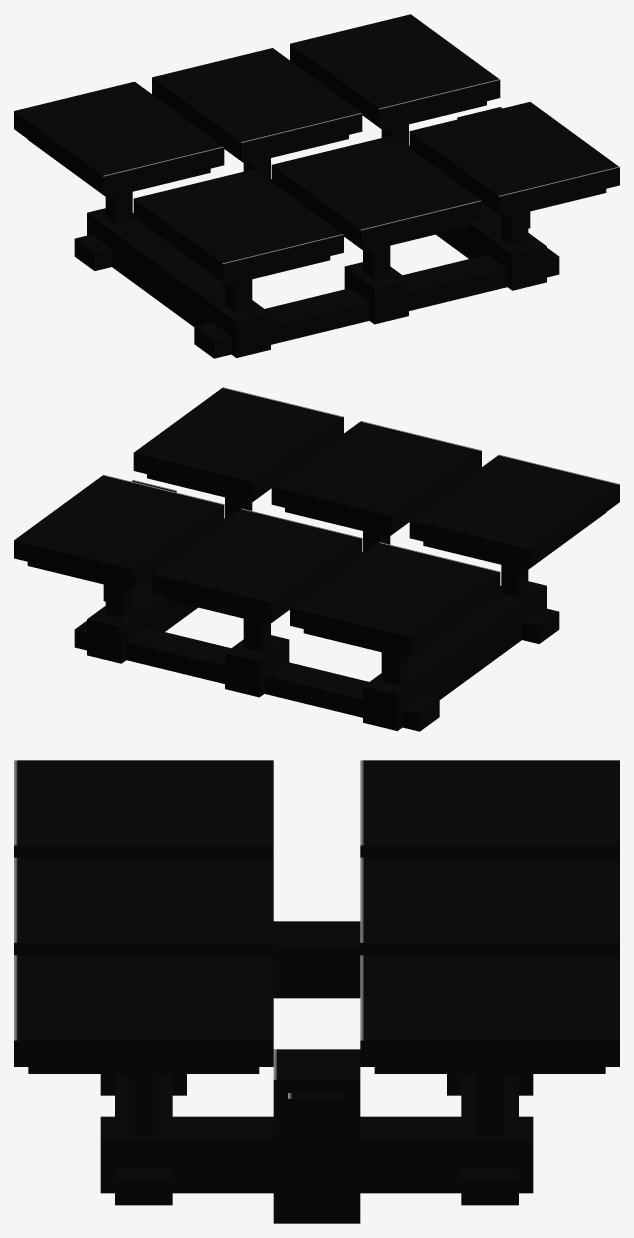
Rendered from solar_panel.obj.
The picture shows the model from 3 angles, top to bottom: view 1: azimuth 30°, elevation 25°; view 2: azimuth 150°, elevation 25°; view 3: azimuth 270°, elevation 25°; orthographic projection. The views are drawn at different scales.
Visible parts, largest first — view 1: panel3-1, panel6-1, panel5-1, panel1-1, panel2-1, panel4-1, shape4, shape12, shape7, shape11, shape1, shape9 (+9 smaller); view 2: panel6-1, panel3-1, panel2-1, panel4-1, panel5-1, panel1-1, shape4, shape1, shape7, shape5, shape12, shape3 (+9 smaller); view 3: panel4-1, panel1-1, panel5-1, panel2-1, panel6-1, panel3-1, shape7, energyinput_, shape4, shape12, shape1, energyinput (+6 smaller).
Part boxes in pixels (left/top/right/bottom): panel3-1: left=14, top=81, right=224, bottom=194; panel6-1: left=133, top=169, right=343, bottom=282; panel5-1: left=271, top=135, right=481, bottom=248; panel1-1: left=290, top=14, right=500, bottom=127; panel2-1: left=152, top=48, right=362, bottom=160; panel4-1: left=409, top=102, right=619, bottom=214; shape4: left=87, top=208, right=270, bottom=357; shape12: left=194, top=248, right=559, bottom=358; shape7: left=409, top=145, right=546, bottom=290; shape11: left=344, top=262, right=408, bottom=324; shape1: left=74, top=234, right=111, bottom=270; shape9: left=363, top=246, right=390, bottom=278; panel6-1: left=409, top=454, right=619, bottom=567; panel3-1: left=290, top=542, right=500, bottom=655; panel2-1: left=152, top=508, right=362, bottom=621; panel4-1: left=133, top=387, right=343, bottom=500; panel5-1: left=271, top=421, right=481, bottom=533; panel1-1: left=14, top=475, right=224, bottom=587; shape4: left=363, top=581, right=546, bottom=730; shape1: left=74, top=621, right=439, bottom=731; shape7: left=87, top=518, right=224, bottom=663; shape5: left=225, top=635, right=289, bottom=697; shape12: left=522, top=607, right=559, bottom=643; shape3: left=243, top=619, right=270, bottom=651; panel4-1: left=14, top=955, right=273, bottom=1066; panel1-1: left=360, top=955, right=619, bottom=1066; panel5-1: left=14, top=857, right=273, bottom=955; panel2-1: left=360, top=857, right=619, bottom=955; panel6-1: left=14, top=760, right=273, bottom=857; panel3-1: left=360, top=760, right=619, bottom=857; shape7: left=100, top=1116, right=533, bottom=1193; energyinput_: left=273, top=1049, right=360, bottom=1223; shape4: left=273, top=921, right=360, bottom=998; shape12: left=115, top=1074, right=172, bottom=1205; shape1: left=461, top=1074, right=518, bottom=1205; energyinput: left=288, top=1093, right=345, bottom=1151.
Bounding box in the file's own units: 2.94 × 0.875 × 2.62.
